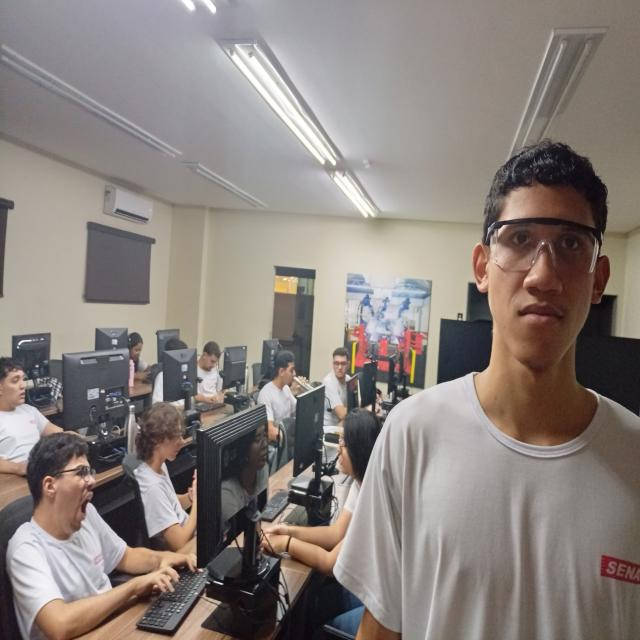oculos-epi: (489, 216, 599, 281)
sem_oculos: (46, 457, 104, 482), (334, 434, 350, 456), (9, 376, 30, 392), (166, 429, 188, 442), (332, 357, 347, 370), (208, 357, 218, 373), (286, 367, 298, 376), (135, 347, 140, 356)
